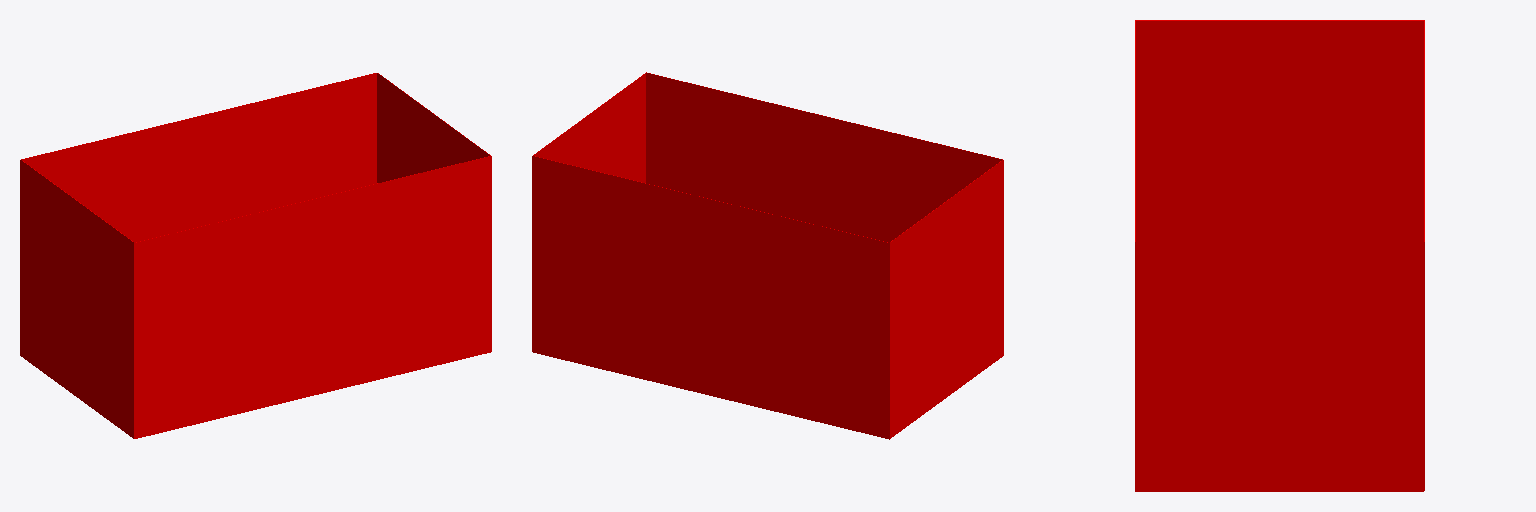
The robot description file, URDF, robot "square.urdf":
<?xml version="1.0" ?>
<robot name="square.urdf">
  <link name="baseLink">
    <contact>
      <lateral_friction value="1.0"/>
      <inertia_scaling value="3.0"/>
    </contact>
    <inertial>
      <origin rpy="0 0 0" xyz="0 0 0"/>
       <mass value=".1"/>
       <inertia ixx="1" ixy="0" ixz="0" iyy="1" iyz="0" izz="1"/>
    </inertial>
    <visual>
      <origin rpy="0 0 0" xyz="0 0 0"/>
      <geometry>
        <mesh filename="8.stl" scale="1 1 1" />
      </geometry>
      <material name="red">
        <color rgba="1 0 0 1"/>
      </material>
    </visual>
    <collision>
      <origin rpy="0 0 0" xyz="0 0 0"/>
      <geometry>
        <mesh filename="8_convex.obj" scale="1 1 1" />
      </geometry>
    </collision>
  </link>
</robot>

--- Render facts (derived) ---
3 views of the same robot in one strip: view 1: azimuth 30°, elevation 25°; view 2: azimuth 150°, elevation 25°; view 3: azimuth 270°, elevation 25° (orthographic).
Model square.urdf with 1 links and 0 joints (none), rooted at baseLink, posed every joint at zero.
Visible links, largest first — view 1: baseLink; view 2: baseLink; view 3: baseLink.
Boxes of the visible links, bbox=[...] form: baseLink: bbox=[20, 73, 491, 438]; baseLink: bbox=[532, 72, 1003, 439]; baseLink: bbox=[1135, 20, 1424, 491].
Size in the robot's own frame: 0.8785 by 0.4856 by 0.4617 metres.
Meshes: 1 distinct files referenced, 1 mesh visuals loaded (1 binary STL).